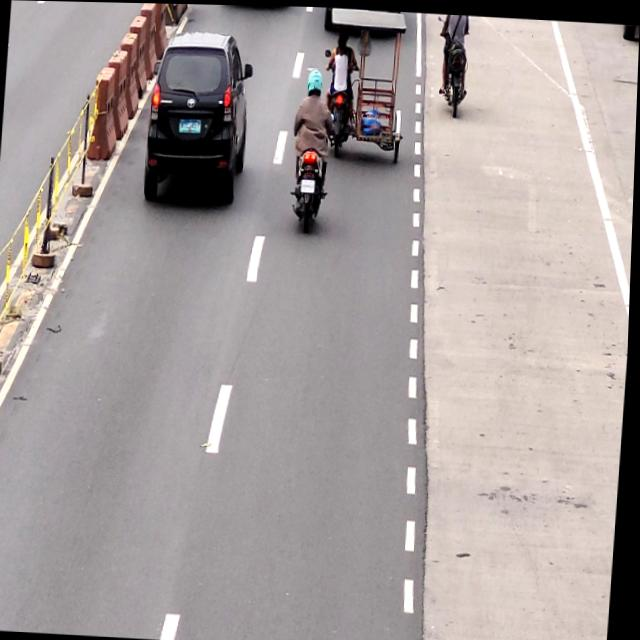Car: (142, 29, 250, 201)
License-Plate: (180, 117, 203, 132), (302, 176, 317, 190)
Motorcycle: (288, 64, 334, 241), (435, 12, 469, 116)
Tricycle: (323, 6, 410, 162)
